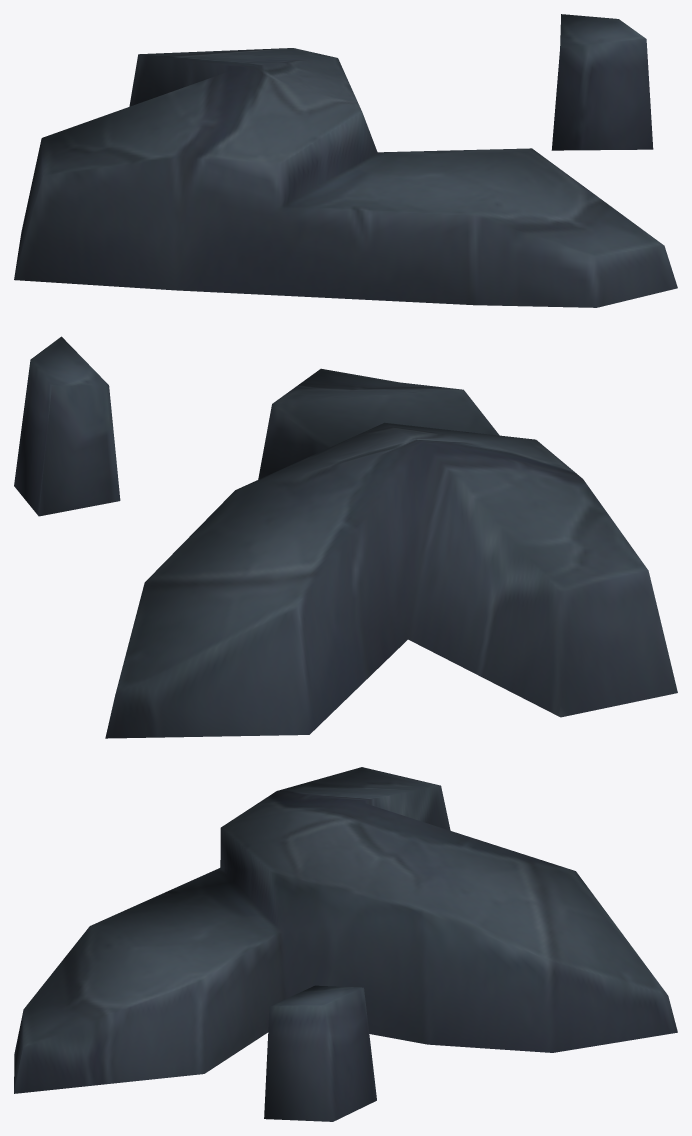
Rendered from Area_07_3.fbx.
3 renders of one model, top to bottom at view 1: azimuth 30°, elevation 25°; view 2: azimuth 150°, elevation 25°; view 3: azimuth 270°, elevation 25°, orthographic. The views are drawn at different scales.
Visible parts, largest first — view 1: Area_07_3; view 2: Area_07_3; view 3: Area_07_3.
Part boxes in pixels (x1,y1,x2,y2): Area_07_3: (14, 14, 677, 307); Area_07_3: (14, 336, 677, 738); Area_07_3: (14, 767, 677, 1121).
Bounding box in the file's own units: 500 × 137 × 480.
